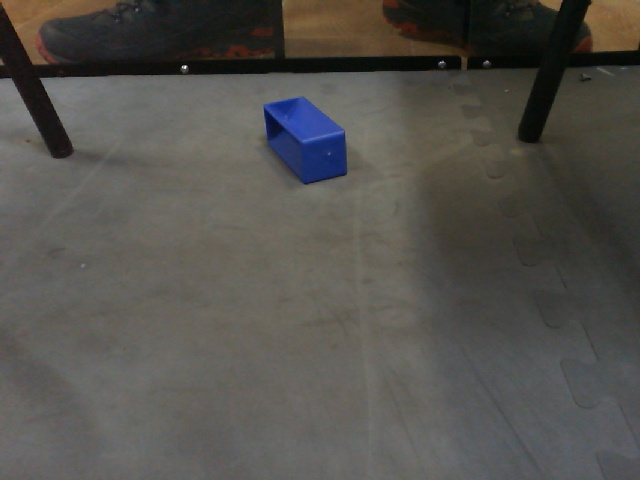BlueSample: (259, 92, 352, 188)
